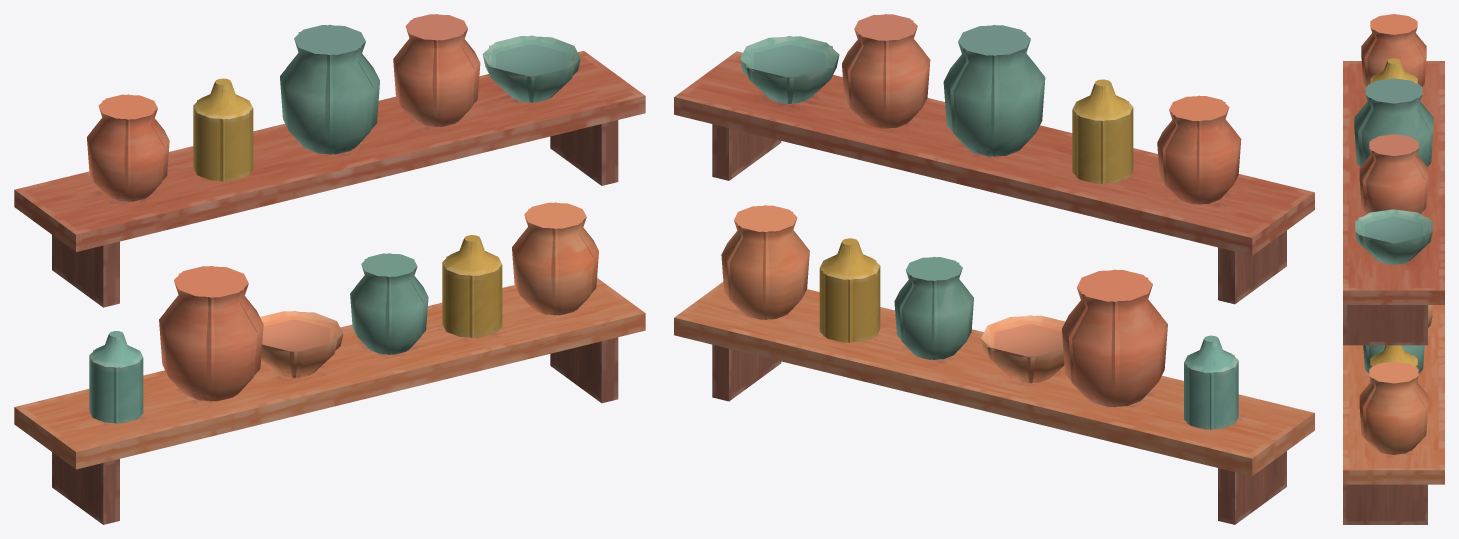
File: shelf.bundle.fbx
3 views of the same model, side by side, from view 1: azimuth 30°, elevation 25°; view 2: azimuth 150°, elevation 25°; view 3: azimuth 270°, elevation 25° (orthographic). The views are drawn at different scales.
Parts seen in each view (by area): view 1: shelf, shelf_low, shelf_s04, shelf_s02, shelf_s01, shelf_s00; view 2: shelf, shelf_low, shelf_s02, shelf_s04, shelf_s03, shelf_s01, shelf_s00; view 3: shelf, shelf_low, shelf_s02, shelf_s04, shelf_s00, shelf_s01, shelf_s03.
Part boxes in pixels (left/top/right/bottom): shelf: left=15, top=14, right=643, bottom=524; shelf_low: left=14, top=14, right=645, bottom=469; shelf_s04: left=15, top=131, right=342, bottom=467; shelf_s02: left=255, top=337, right=564, bottom=425; shelf_s01: left=220, top=98, right=474, bottom=430; shelf_s00: left=481, top=56, right=645, bottom=349; shelf: left=676, top=14, right=1313, bottom=524; shelf_low: left=674, top=14, right=1314, bottom=476; shelf_s02: left=684, top=300, right=1103, bottom=424; shelf_s04: left=1006, top=130, right=1313, bottom=475; shelf_s03: left=674, top=91, right=882, bottom=337; shelf_s01: left=873, top=98, right=1118, bottom=422; shelf_s00: left=682, top=51, right=843, bottom=316; shelf: left=1343, top=14, right=1442, bottom=524; shelf_low: left=1343, top=14, right=1444, bottom=484; shelf_s02: left=1343, top=306, right=1444, bottom=454; shelf_s04: left=1343, top=61, right=1444, bottom=167; shelf_s00: left=1343, top=223, right=1441, bottom=484; shelf_s01: left=1343, top=159, right=1444, bottom=223; shelf_s03: left=1421, top=211, right=1444, bottom=483.
Size of the model in its own units: 4.8 by 3.22 by 0.9.
1 material, 1 textured.
